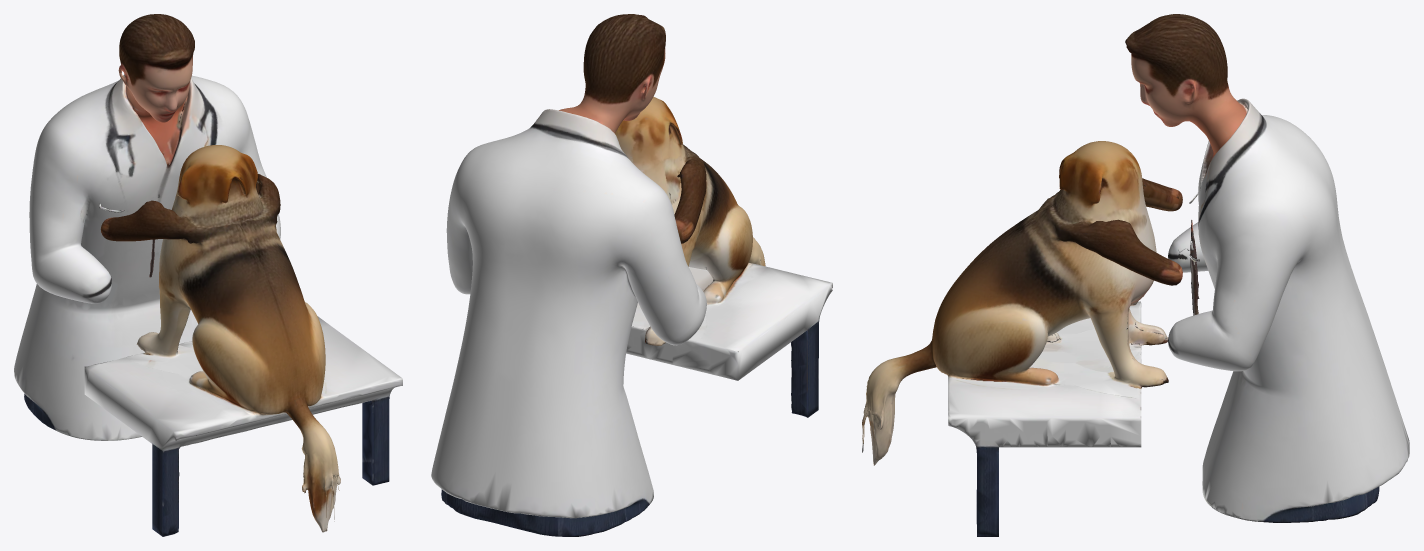
The model's file is vet_examining_dog.glb.
The picture shows the model from 3 angles, left to right: view 1: azimuth 30°, elevation 25°; view 2: azimuth 150°, elevation 25°; view 3: azimuth 270°, elevation 25°; orthographic projection. The views are drawn at different scales.
Parts seen in each view (by area): view 1: model; view 2: model; view 3: model.
Boxes of the visible parts, <box> form: model: <box>14,14,402,536</box>; model: <box>431,14,832,536</box>; model: <box>862,14,1409,536</box>.
Size of the model in its own units: 0.9957 by 1.7 by 1.88.
1 material, 1 textured.
